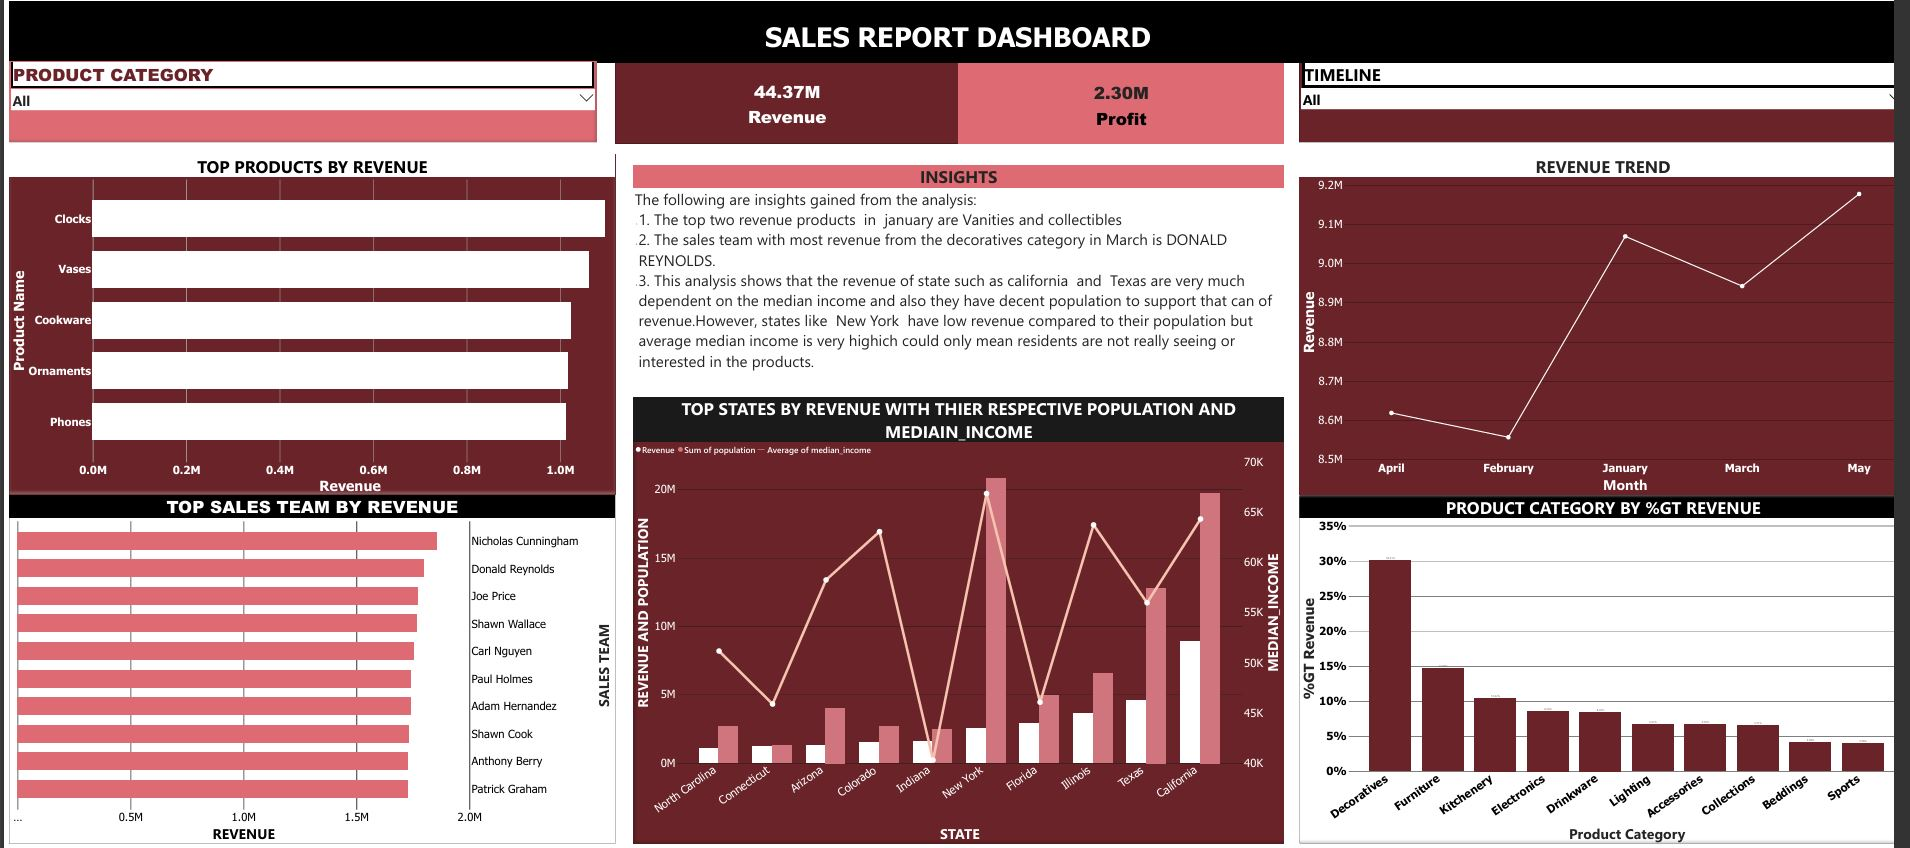

Layout of this report page (visuals, bound fields, positions):
{"tool":"powerbi","page":{"name":"Page 1","canvas":[9000,4000],"ordinal":0},"visuals":[{"type":"columnChart","title":" PRODUCT CATEGORY BY %GT REVENUE","fields":{"Category":["Products.Product Category"],"Y":["Sales table.Revenue"]},"box":[6117.7,2341.9,2882.3,1657.3],"z":0},{"type":"card","fields":{"Values":["Sales table.revenue"]},"box":[2875.1,281,1628.5,396.3],"z":1000},{"type":"slicer","fields":{"Values":["Sales table.Month"]},"box":[6117.7,288.2,2882.3,381.9],"z":2000},{"type":"textbox","box":[0,0,9000,289.9],"z":3000},{"type":"card","title":"PROFIT","fields":{"Values":["Sales table.profit"]},"box":[4503.6,295.4,1542,381.9],"z":4000},{"type":"slicer","fields":{"Values":["Products.Product Category"]},"box":[0,286.1,2787.5,384.2],"z":5000},{"type":"lineClusteredColumnComboChart","title":"TOP STATES BY REVENUE WITH THIER RESPECTIVE POPULATION AND MEDIAN INCOME","fields":{"Category":["Store Locations.state"],"Y":["Sales table.revenue","Store Locations.population"],"Y2":["Store Locations.median_income"]},"box":[2961.6,1923.9,3084.1,2075.3],"z":6000},{"type":"clusteredBarChart","title":"TOP SALES TEAM BY REVENUE","fields":{"Category":["Sales Team.Sales Team"],"Y":["Sales table.revenue"]},"box":[0,2341.9,2875.1,1657.3],"z":7000},{"type":"clusteredBarChart","title":"TOP PRODUCTS BY REVENUE","fields":{"Category":["Products.Product Name"],"Y":["Sales table.revenue"]},"box":[0,727.8,2875.1,1614.1],"z":8000},{"type":"lineChart","title":"REVENUE TREND","fields":{"Category":["Sales table.Month"],"Y":["Sales table.Revenue"]},"box":[6117.7,727.8,2882.3,1614.1],"z":9000},{"type":"textbox","title":"INSIGHTS","box":[2961.6,778.2,3084.1,1037.6],"z":9001}]}

Visuals, with their boxes in screenshot pixels (x1, y1, x2, y2), scaled from the page's 9000x4000 canvas onto the 1910x848 screenshot:
" PRODUCT CATEGORY BY %GT REVENUE" columnChart: crop(1298, 496, 1909, 847)
card - Sales table.revenue: crop(610, 60, 956, 144)
slicer - Sales table.Month: crop(1298, 61, 1909, 142)
textbox: crop(0, 0, 1909, 61)
"PROFIT" card: crop(956, 63, 1283, 144)
slicer - Products.Product Category: crop(0, 61, 592, 142)
"TOP STATES BY REVENUE WITH THIER RESPECTIVE POPULATION AND MEDIAN INCOME" lineClusteredColumnComboChart: crop(629, 408, 1283, 847)
"TOP SALES TEAM BY REVENUE" clusteredBarChart: crop(0, 496, 610, 847)
"TOP PRODUCTS BY REVENUE" clusteredBarChart: crop(0, 154, 610, 496)
"REVENUE TREND" lineChart: crop(1298, 154, 1909, 496)
"INSIGHTS" textbox: crop(629, 165, 1283, 385)
